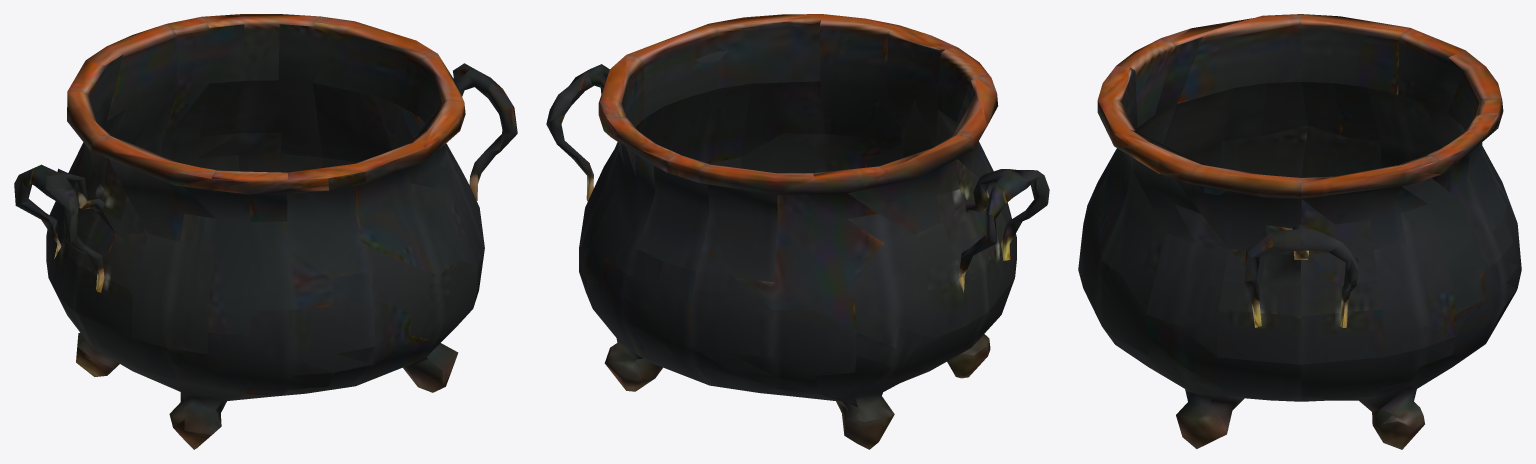
File: cauldron.lod1.glb
3 views of the same model, side by side, from view 1: azimuth 30°, elevation 25°; view 2: azimuth 150°, elevation 25°; view 3: azimuth 270°, elevation 25° (orthographic).
Size of the model in its own units: 0.9722 by 0.6 by 0.824.
1 material, 1 textured.
